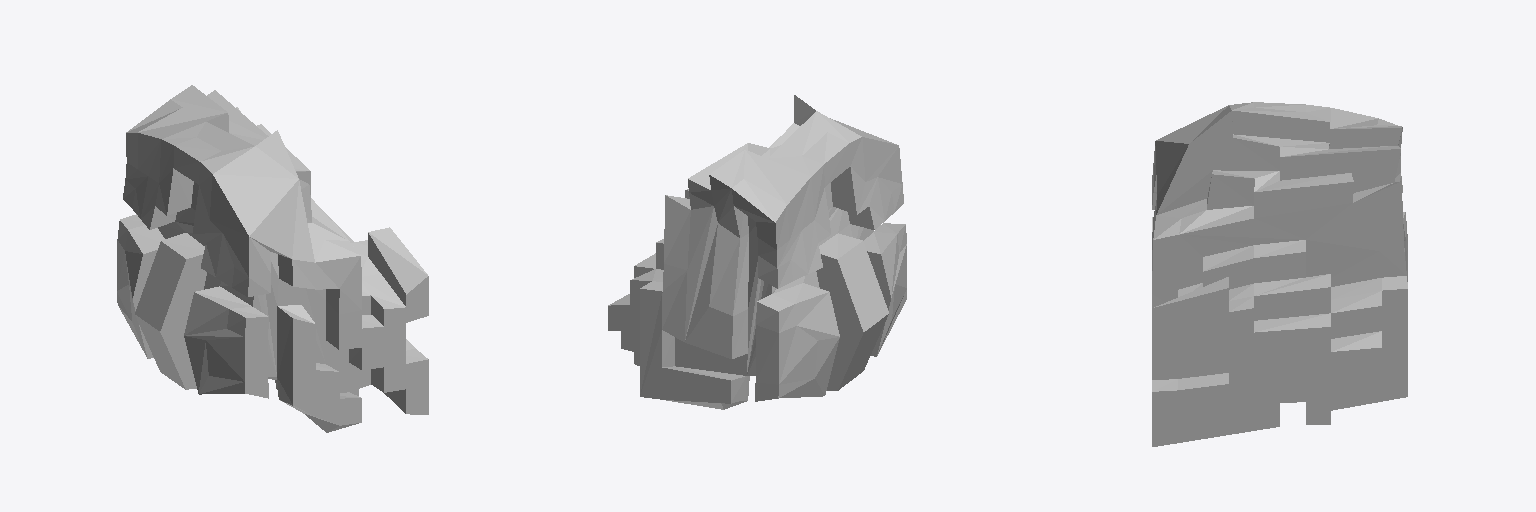
The model's file is FlyingDroneBot_LOD0-1.obj.
3 views of the same model, side by side, from view 1: azimuth 30°, elevation 25°; view 2: azimuth 150°, elevation 25°; view 3: azimuth 270°, elevation 25° (orthographic).
Visible parts, largest first — view 1: FlyingDroneBot_LOD0-1; view 2: FlyingDroneBot_LOD0-1; view 3: FlyingDroneBot_LOD0-1.
Part boxes in pixels (x1,y1,x2,y2): FlyingDroneBot_LOD0-1: (117,85,428,432); FlyingDroneBot_LOD0-1: (608,95,906,409); FlyingDroneBot_LOD0-1: (1152,102,1407,446).
Bounding box in the file's own units: 0.9787 × 1.24 × 1.